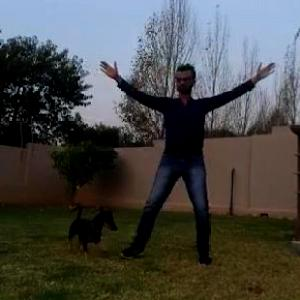takeoff: (109, 55, 277, 261)
